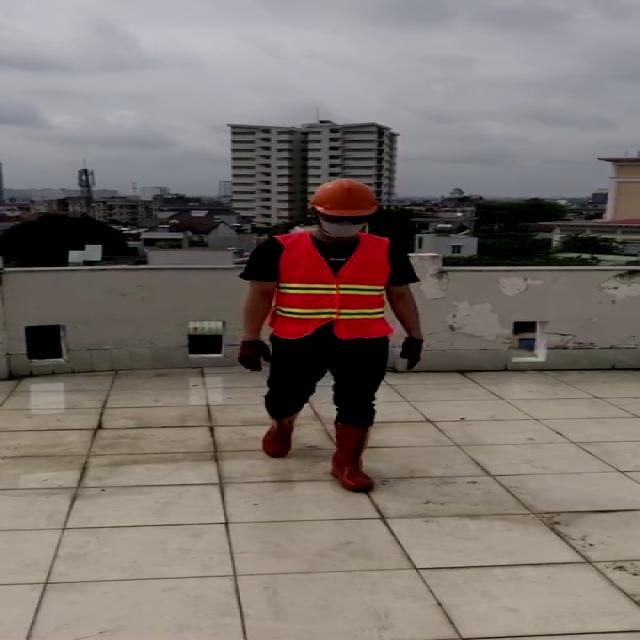boots: (331, 419, 377, 492), (261, 409, 299, 458)
gloves: (235, 338, 272, 372), (398, 334, 426, 368)
helmet: (306, 174, 382, 218)
vest: (270, 232, 391, 339)
